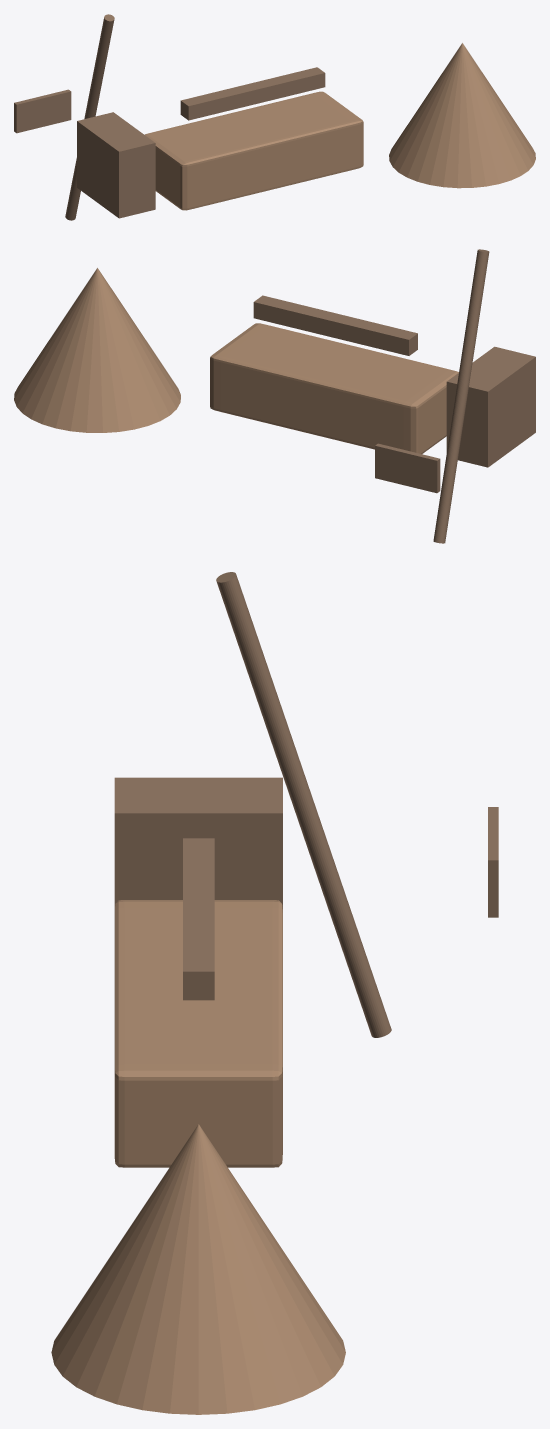
Rendered from boot_lod0.fbx.
3 renders of one model, top to bottom at view 1: azimuth 30°, elevation 25°; view 2: azimuth 150°, elevation 25°; view 3: azimuth 270°, elevation 25°, orthographic. The views are drawn at different scales.
Visible parts, largest first — view 1: Cube, Cone, Cube.001, Cube.002, Cube.003, Cylinder; view 2: Cube, Cone, Cube.001, Cube.002, Cylinder, Cube.003; view 3: Cone, Cube, Cube.001, Cylinder, Cube.002, Cube.003.
Boxes of the visible parts, <box> form: Cube: <box>144,91,363,210</box>; Cone: <box>389,43,535,188</box>; Cube.001: <box>77,112,155,218</box>; Cube.002: <box>180,67,325,120</box>; Cube.003: <box>14,89,71,133</box>; Cylinder: <box>65,14,114,220</box>; Cube: <box>210,323,458,453</box>; Cone: <box>14,268,180,432</box>; Cube.001: <box>446,346,535,467</box>; Cube.002: <box>253,295,417,355</box>; Cylinder: <box>433,249,489,543</box>; Cube.003: <box>375,443,440,493</box>; Cone: <box>51,1124,345,1414</box>; Cube: <box>114,900,282,1167</box>; Cube.001: <box>114,777,282,912</box>; Cylinder: <box>216,572,391,1037</box>; Cube.002: <box>183,838,214,1000</box>; Cube.003: <box>488,807,498,917</box>.
Size of the model in its own units: 4.8 by 2.42 by 2.12.
